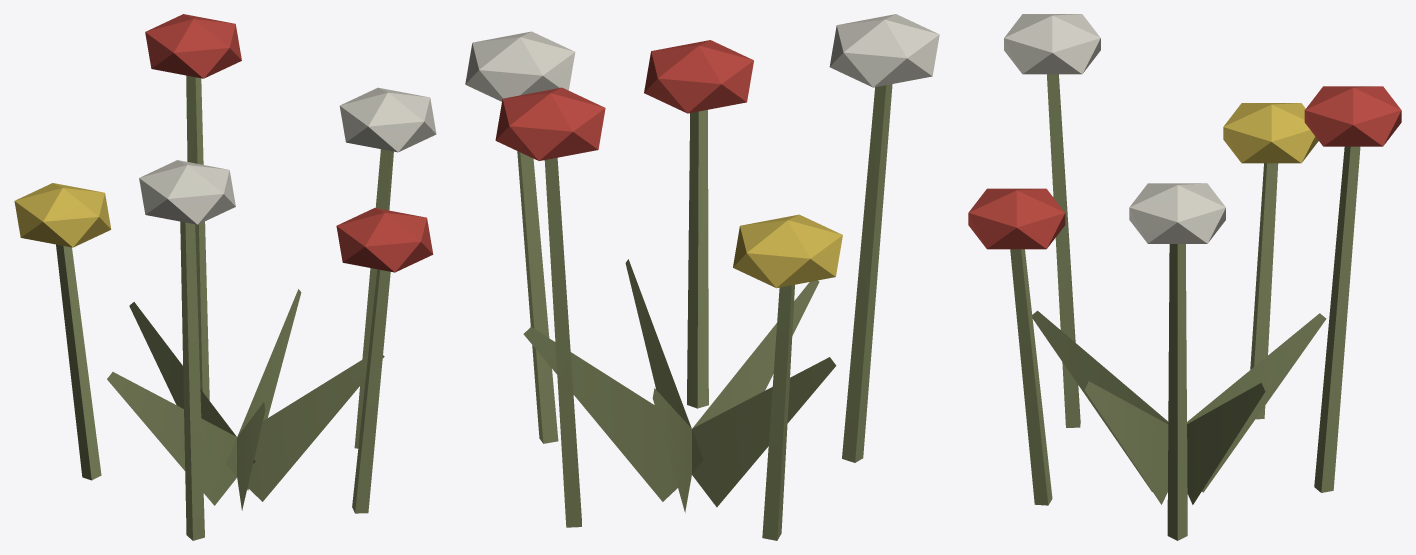
Rendered from flowers.glb.
3 renders of one model, left to right at view 1: azimuth 30°, elevation 25°; view 2: azimuth 150°, elevation 25°; view 3: azimuth 270°, elevation 25°, orthographic. The views are drawn at different scales.
Visible parts, largest first — view 1: flowers; view 2: flowers; view 3: flowers.
Part boxes in pixels (<box>): flowers: <box>14,14,436,540</box>; flowers: <box>465,14,939,540</box>; flowers: <box>968,14,1401,540</box>.
Bounding box in the file's own units: 0.3479 × 0.3742 × 0.3425.
